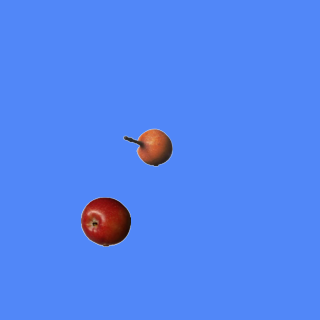Apple Braeburn: (80, 196, 130, 246)
Granadilla: (122, 122, 172, 172)
